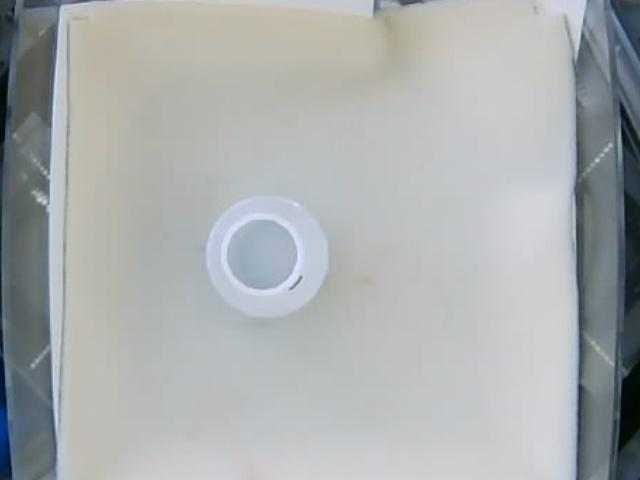Bottle: (202, 196, 330, 318)
